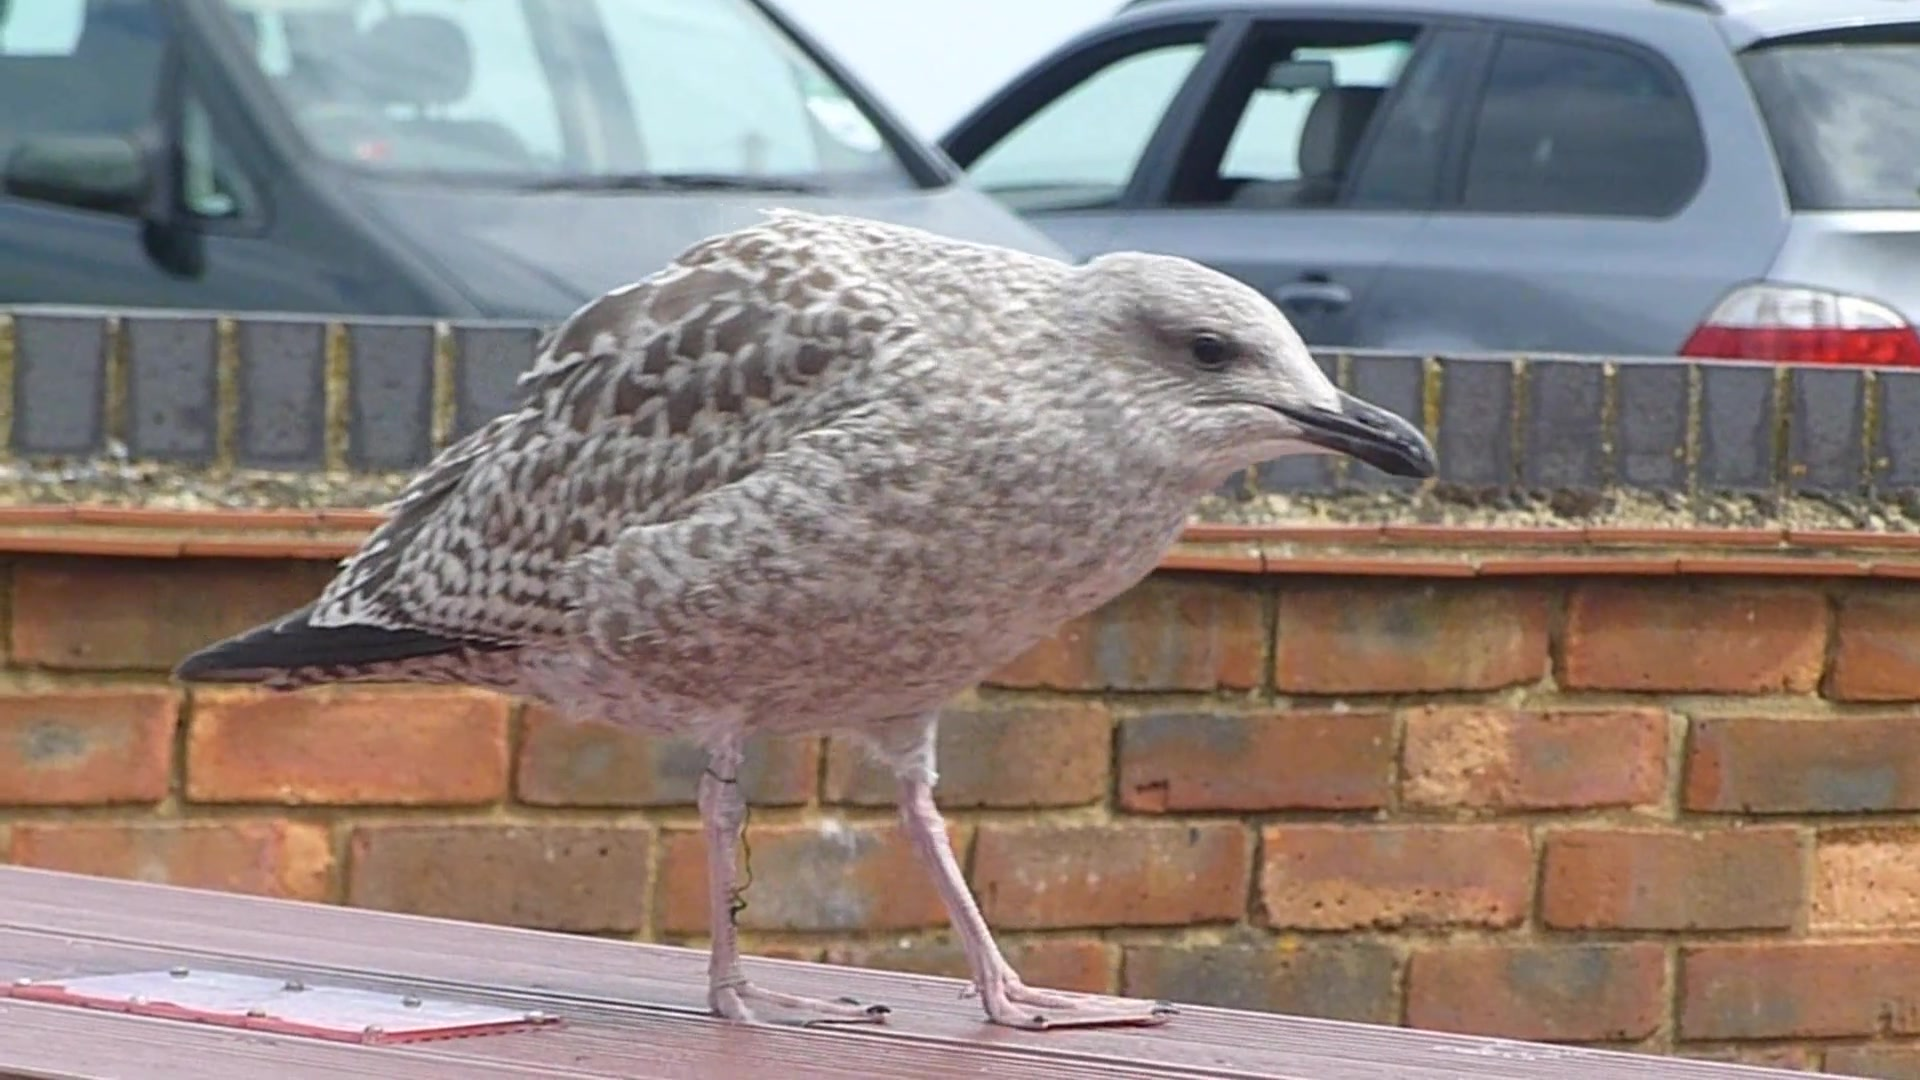bird: (169, 204, 1448, 1033)
